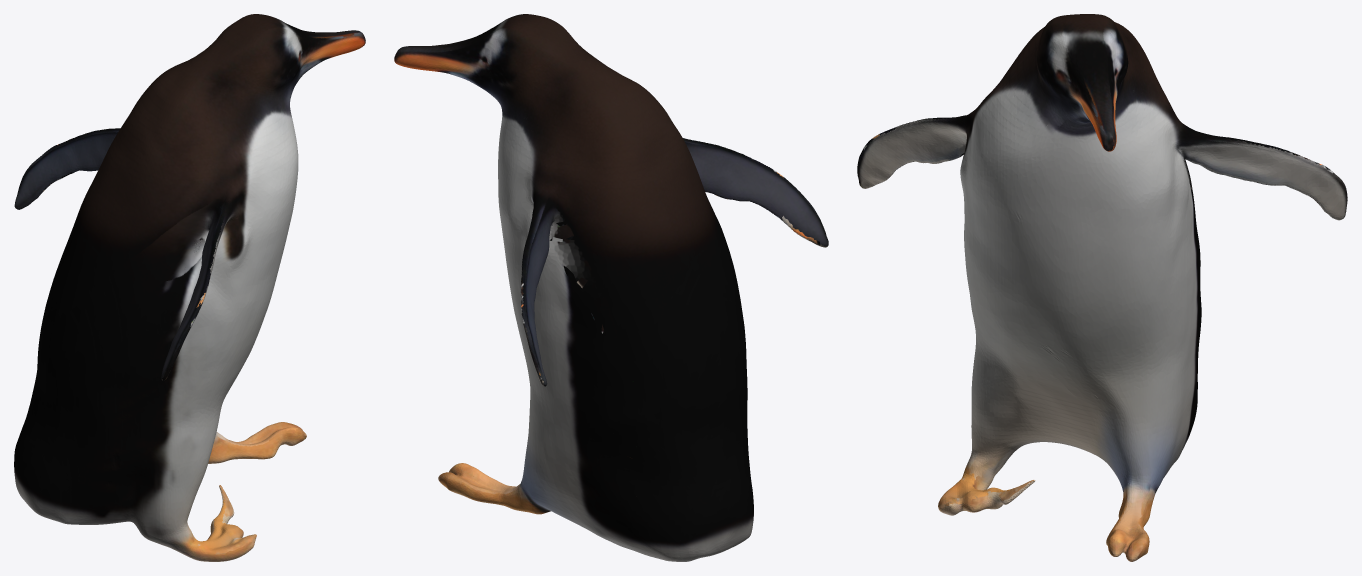
Rendered from paint_mesh_Penguin.glb.
3 renders of one model, left to right at view 1: azimuth 30°, elevation 25°; view 2: azimuth 150°, elevation 25°; view 3: azimuth 270°, elevation 25°, orthographic. The views are drawn at different scales.
Visible parts, largest first — view 1: world; view 2: world; view 3: world.
Boxes of the visible parts, left/top/right/bottom form: world: left=14, top=14, right=365, bottom=561; world: left=394, top=14, right=828, bottom=561; world: left=857, top=14, right=1347, bottom=561.
Bounding box in the file's own units: 1.49 × 1.99 × 1.63.
Materials: 1 (1 with a texture image).
